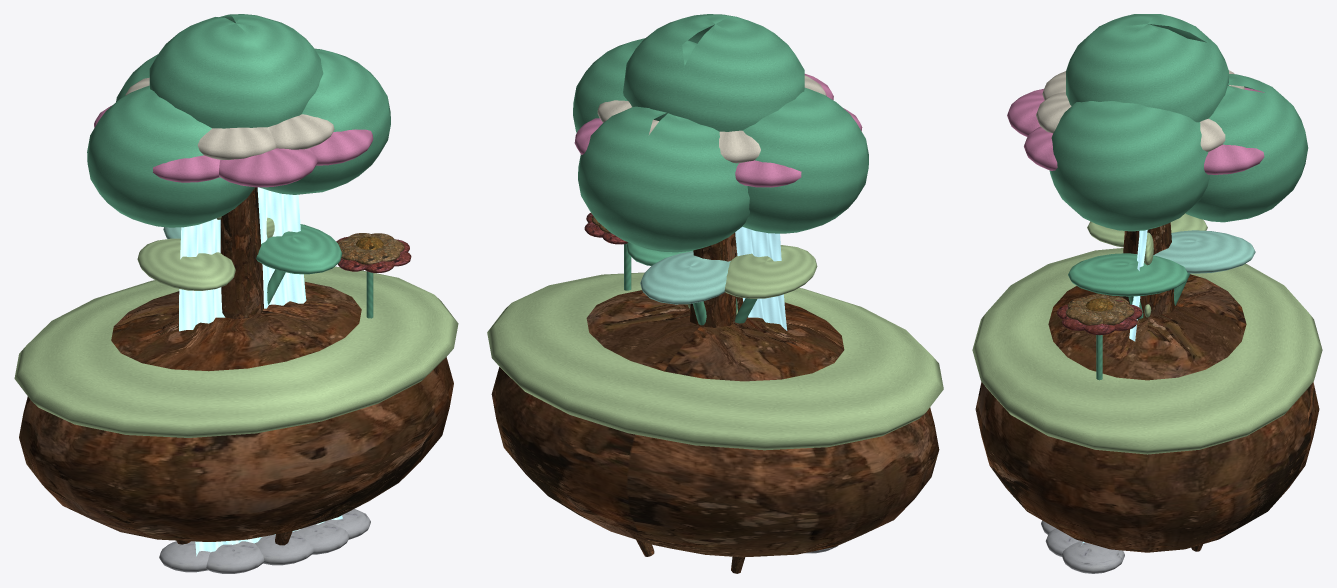
Rendered from st2_rain.glb.
3 views of the same model, side by side, from view 1: azimuth 30°, elevation 25°; view 2: azimuth 150°, elevation 25°; view 3: azimuth 270°, elevation 25° (orthographic). The views are drawn at different scales.
Parts seen in each view (by area): view 1: Rooted_Floating_Tree_Island_Mesh, Waterfall_Flow_Surface_Mesh, Layered_Petal_Flower_Mesh, Large_Jungle_Leaves_Mesh; view 2: Rooted_Floating_Tree_Island_Mesh, Large_Jungle_Leaves_Mesh, Layered_Petal_Flower_Mesh, Waterfall_Flow_Surface_Mesh; view 3: Rooted_Floating_Tree_Island_Mesh, Large_Jungle_Leaves_Mesh, Layered_Petal_Flower_Mesh, Waterfall_Flow_Surface_Mesh.
Boxes of the visible parts, x1,y1,x2,y2 form: Rooted_Floating_Tree_Island_Mesh: (14, 14, 458, 545); Waterfall_Flow_Surface_Mesh: (159, 187, 370, 573); Layered_Petal_Flower_Mesh: (94, 77, 373, 187); Large_Jungle_Leaves_Mesh: (137, 224, 342, 304); Rooted_Floating_Tree_Island_Mesh: (487, 14, 943, 573); Large_Jungle_Leaves_Mesh: (626, 242, 817, 325); Layered_Petal_Flower_Mesh: (574, 74, 862, 187); Waterfall_Flow_Surface_Mesh: (735, 226, 837, 553); Rooted_Floating_Tree_Island_Mesh: (972, 14, 1322, 552); Large_Jungle_Leaves_Mesh: (1068, 213, 1255, 319); Layered_Petal_Flower_Mesh: (1007, 70, 1264, 174); Waterfall_Flow_Surface_Mesh: (1041, 230, 1147, 573).
Bounding box in the file's own units: 2.96 × 3.51 × 2.2.
13 materials, 13 textured.
